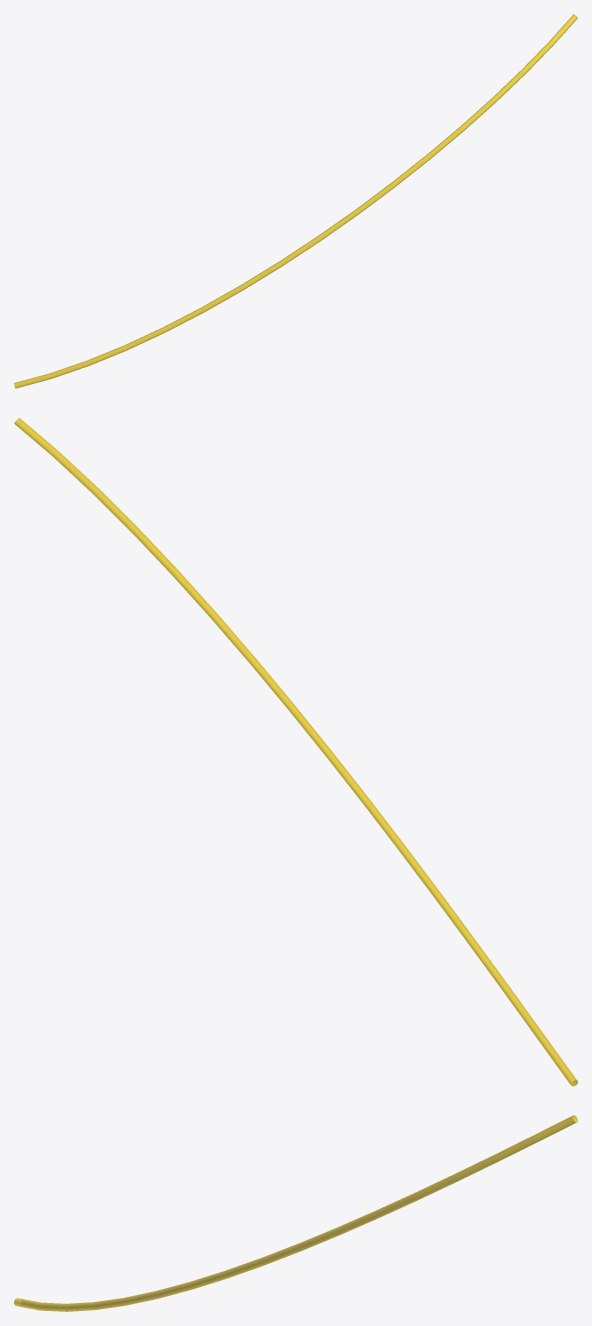
File: Event_17758602_track_10.fbx
3 views of the same model, one above another, from view 1: azimuth 30°, elevation 25°; view 2: azimuth 150°, elevation 25°; view 3: azimuth 330°, elevation 25° (orthographic). The views are drawn at different scales.
Parts seen in each view (by area): view 1: Model; view 2: Model; view 3: Model.
Part boxes in pixels (bbox=[...]): Model: bbox=[14, 14, 577, 388]; Model: bbox=[14, 417, 577, 1086]; Model: bbox=[14, 1115, 577, 1311].
Size of the model in its own units: 3.78 by 2.33 by 1.12.
